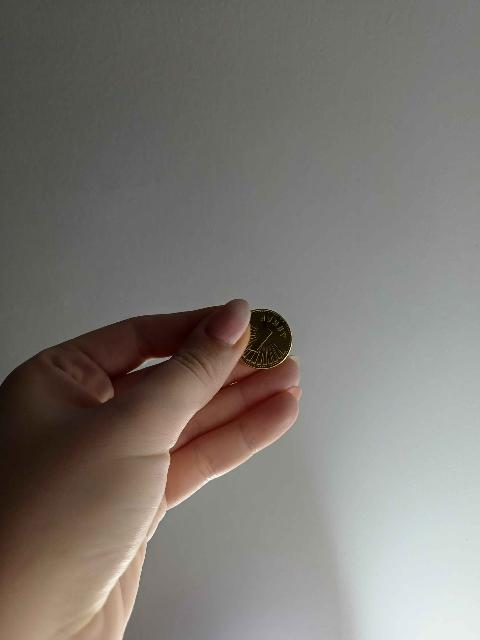1_coin: (241, 309, 292, 368)
